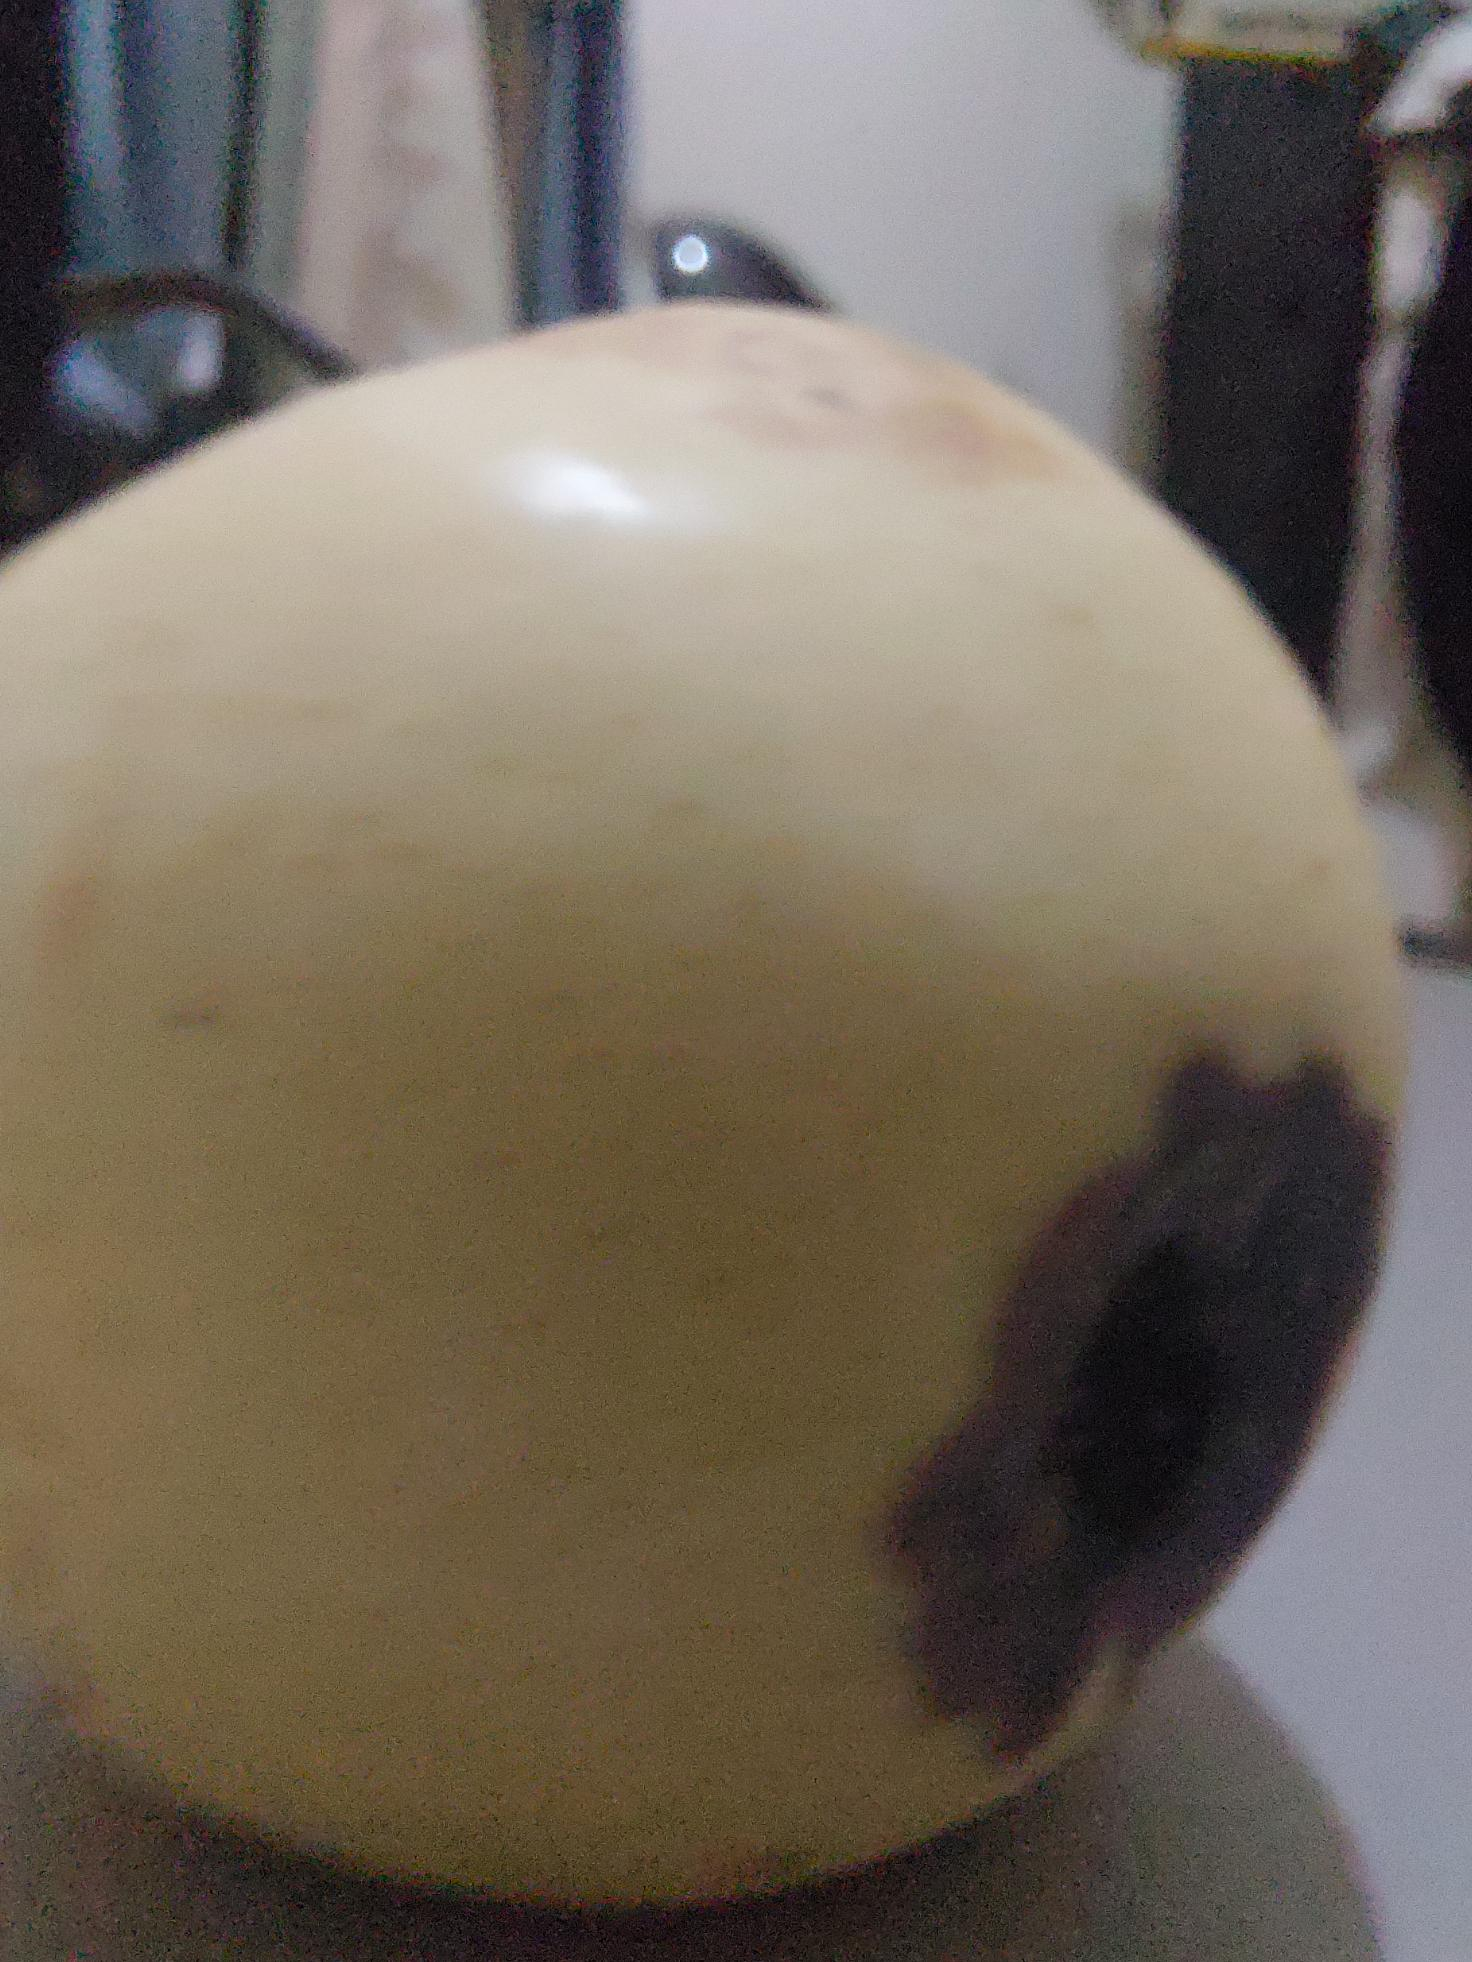Bad Pear: (0, 301, 1413, 1942)
